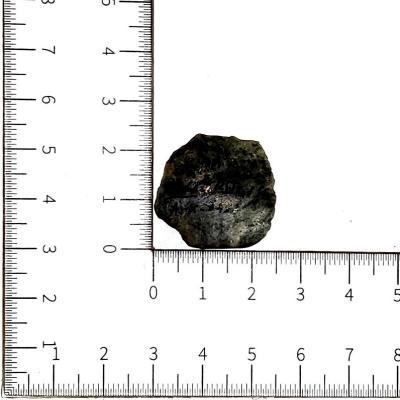archeology: (153, 134, 277, 251)
